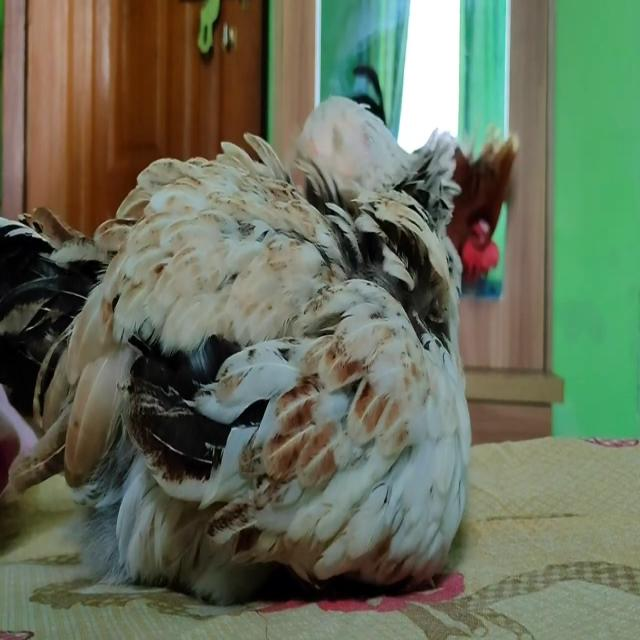self preening: (30, 46, 472, 599)
